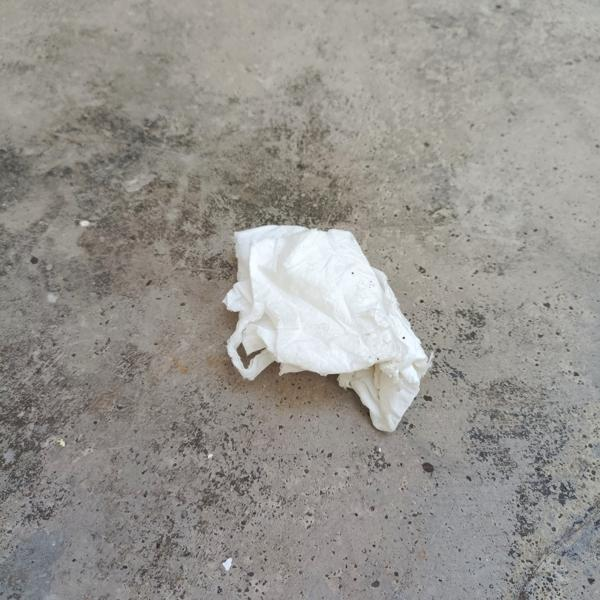Organik: (217, 196, 450, 441)
